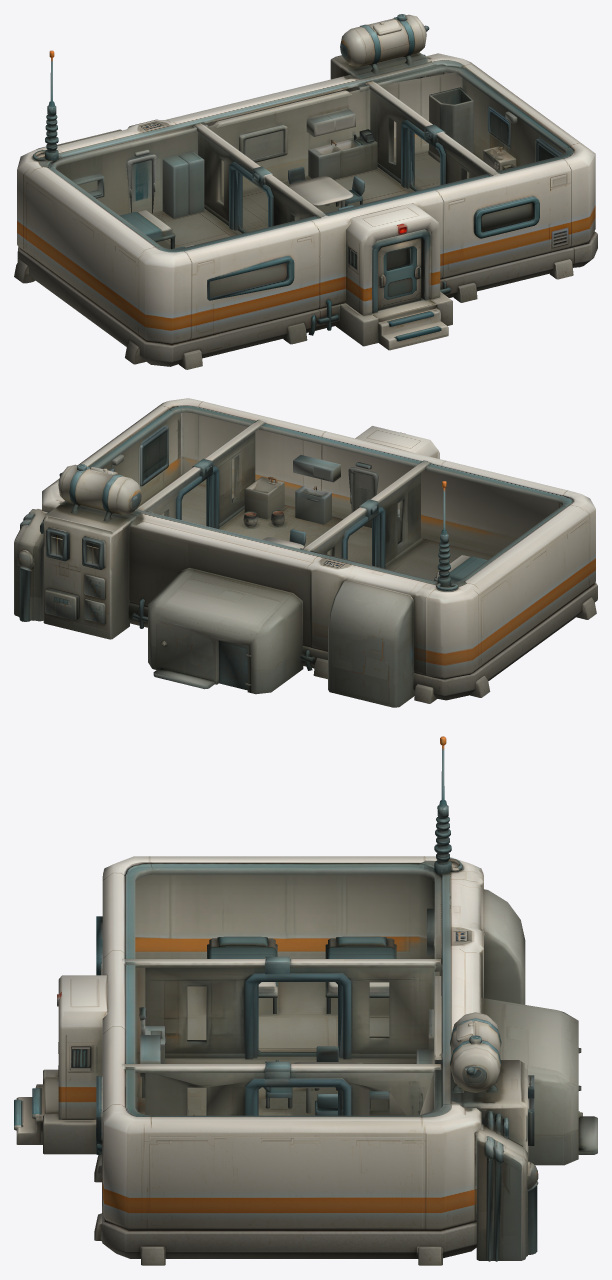
The model's file is basis_home_pod_4k_01.glb.
The picture shows the model from 3 angles, top to bottom: view 1: azimuth 30°, elevation 25°; view 2: azimuth 150°, elevation 25°; view 3: azimuth 270°, elevation 25°; orthographic projection. The views are drawn at different scales.
Parts seen in each view (by area): view 1: tripo_part_2, tripo_part_112, tripo_part_1, tripo_part_157, tripo_part_205, tripo_part_5, tripo_part_34, tripo_part_198, tripo_part_62, tripo_part_63, tripo_part_78, tripo_part_4 (+18 smaller); view 2: tripo_part_2, tripo_part_112, tripo_part_79, tripo_part_78, tripo_part_100, tripo_part_63, tripo_part_1, tripo_part_211, tripo_part_5, tripo_part_34, tripo_part_62, tripo_part_198 (+18 smaller); view 3: tripo_part_2, tripo_part_112, tripo_part_34, tripo_part_1, tripo_part_157, tripo_part_79, tripo_part_78, tripo_part_24, tripo_part_63, tripo_part_62, tripo_part_100, tripo_part_5 (+17 smaller).
Boxes of the visible parts, x1,y1,x2,y2 form: tripo_part_2: (17,53,595,344); tripo_part_112: (56,72,564,248); tripo_part_1: (17,231,597,366); tripo_part_157: (213,87,517,315); tripo_part_205: (179,130,560,369); tripo_part_5: (340,14,426,66); tripo_part_34: (198,131,313,225); tripo_part_198: (239,124,477,341); tripo_part_62: (370,89,485,183); tripo_part_63: (72,79,574,252); tripo_part_78: (57,129,452,346); tripo_part_4: (308,129,377,179); tripo_part_2: (42,398,595,679); tripo_part_112: (101,412,562,580); tripo_part_79: (148,568,303,694); tripo_part_78: (328,467,414,707); tripo_part_100: (43,501,141,639); tripo_part_63: (92,405,571,567); tripo_part_1: (128,582,597,700); tripo_part_211: (111,432,596,703); tripo_part_5: (58,464,141,514); tripo_part_34: (303,473,420,563); tripo_part_62: (148,432,255,523); tripo_part_198: (262,455,399,662); tripo_part_2: (102,856,483,1230); tripo_part_112: (135,874,434,1115); tripo_part_34: (145,967,439,1053); tripo_part_1: (100,971,476,1258); tripo_part_157: (58,975,441,1119); tripo_part_79: (481,997,578,1165); tripo_part_78: (43,889,525,1154); tripo_part_24: (475,1123,527,1260); tripo_part_63: (124,867,402,1116); tripo_part_62: (154,1073,434,1115); tripo_part_100: (450,1060,527,1152); tripo_part_5: (450,1012,501,1093).
Bounding box in the file's own units: 0.9995 × 0.4468 × 0.8755.
Materials: 118 (118 with a texture image).
